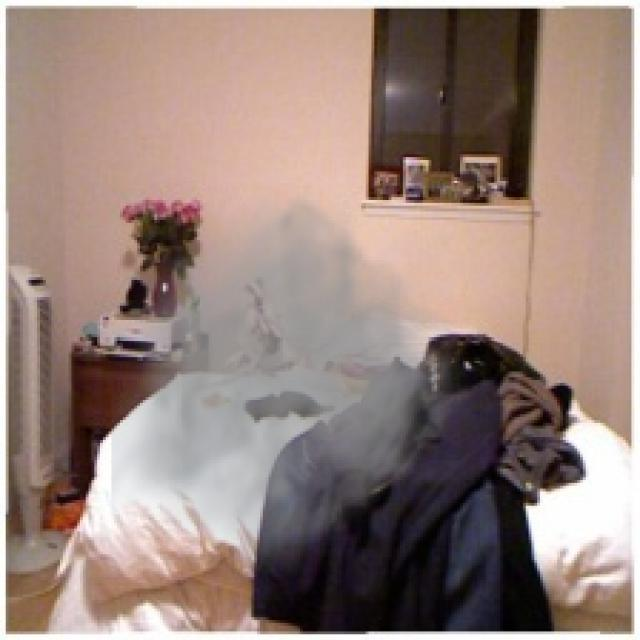Smoke: (112, 177, 497, 589)
